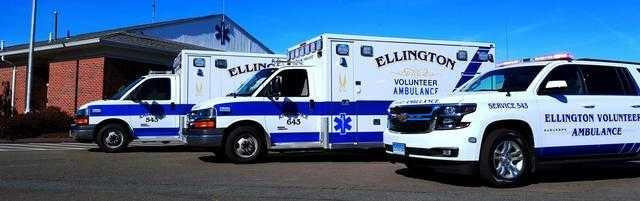car: (183, 32, 495, 162), (68, 48, 288, 152)
